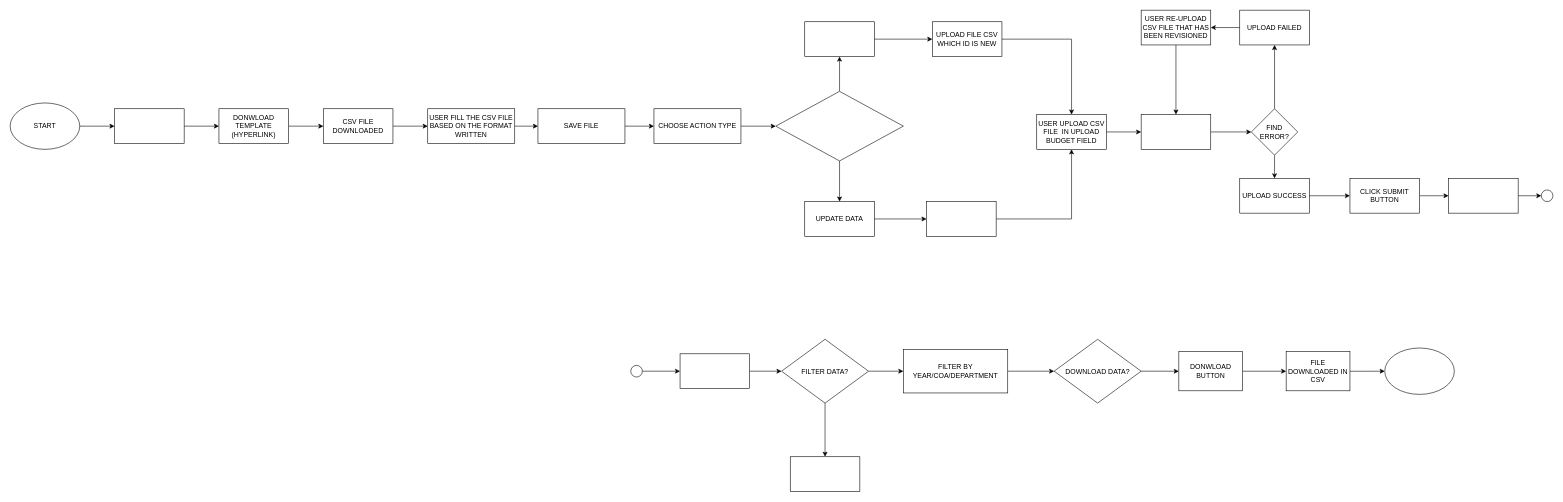
Image size: 1563x502. Some labels were removed from this diagram. The box of each missing label's shape, as (x1, y1, x2, y2) in pixels:
ACTION TYPE DATA UPLOAD OR UPDATE?: (775, 91, 903, 161)
DATA INPUT TO PAGE VIEW: (1448, 178, 1518, 213)
END: (1384, 347, 1454, 394)
PAGE UPLOAD BUDGET: (114, 108, 184, 144)
PAGE VIEW: (679, 353, 750, 389)
SYSTEM RUNS VALIDATION PROCESS: (1141, 114, 1211, 149)
UPLOAD DATA: (804, 21, 874, 57)
UPLOAD FILE CSV WHICH ID IS ALREADY EXISTED: (926, 201, 996, 236)
VIEW TABLE DI BAWAH: (790, 456, 860, 492)
